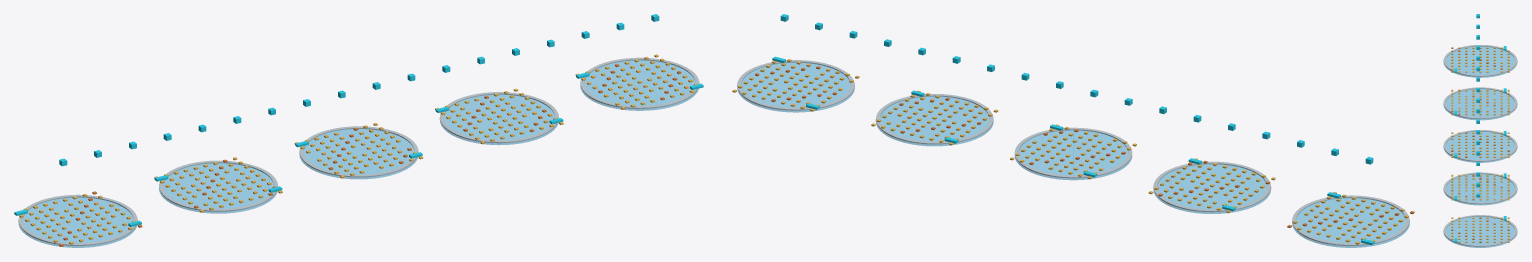
Rendered from 04_L79_CopperDielectricLandingPadMap.fbx.
The picture shows the model from 3 angles, left to right: view 1: azimuth 30°, elevation 25°; view 2: azimuth 150°, elevation 25°; view 3: azimuth 270°, elevation 25°; orthographic projection. The views are drawn at different scales.
Visible parts, largest first — view 1: CopperDielectricLandingPadMap; view 2: CopperDielectricLandingPadMap; view 3: CopperDielectricLandingPadMap.
Part boxes in pixels (left/top/right/bottom): CopperDielectricLandingPadMap: left=14, top=14, right=703, bottom=247; CopperDielectricLandingPadMap: left=732, top=14, right=1414, bottom=247; CopperDielectricLandingPadMap: left=1443, top=14, right=1517, bottom=247.
Bounding box in the file's own units: 592 × 58 × 92.
